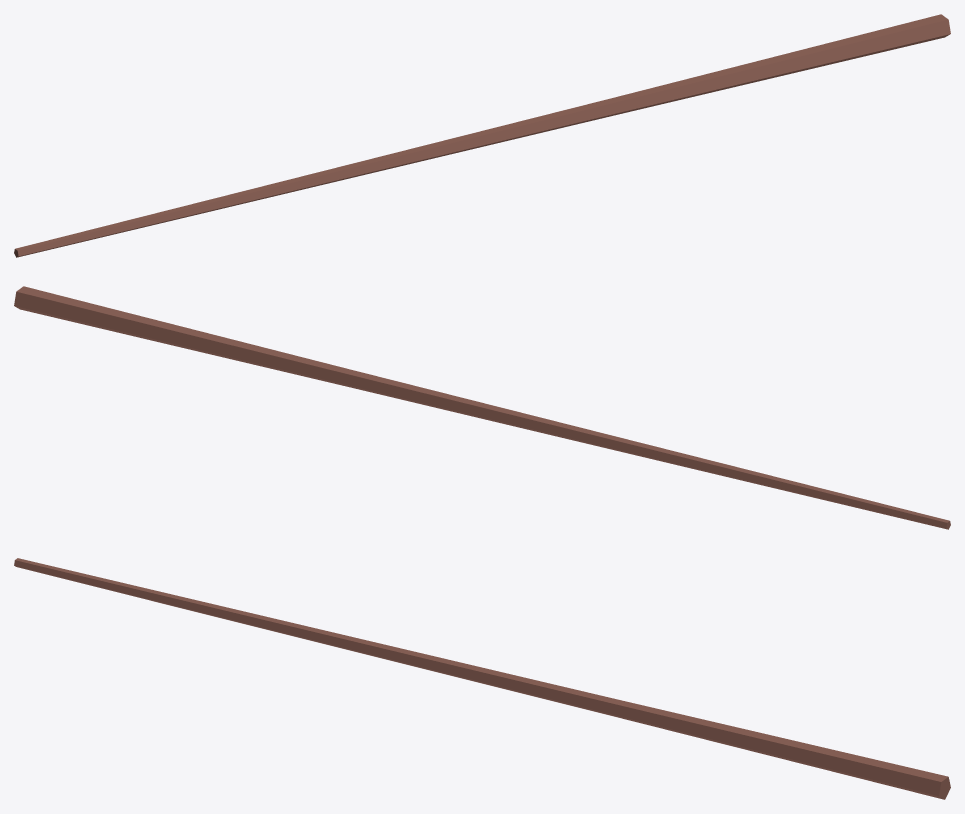
The model's file is ChopStick.fbx.
The picture shows the model from 3 angles, top to bottom: view 1: azimuth 30°, elevation 25°; view 2: azimuth 150°, elevation 25°; view 3: azimuth 330°, elevation 25°; orthographic projection.
Parts seen in each view (by area): view 1: ChopStick; view 2: ChopStick; view 3: ChopStick.
Boxes of the visible parts, x1,y1,x2,y2 form: ChopStick: (14,14,950,257); ChopStick: (14,286,950,529); ChopStick: (14,558,950,799).
Bounding box in the file's own units: 30.39 × 0.6429 × 0.676.
